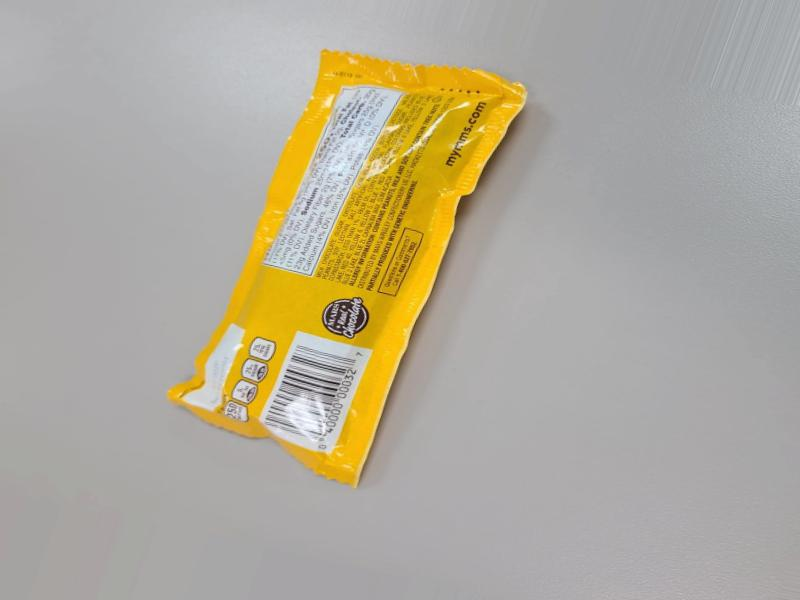m&m: (163, 42, 523, 469)
